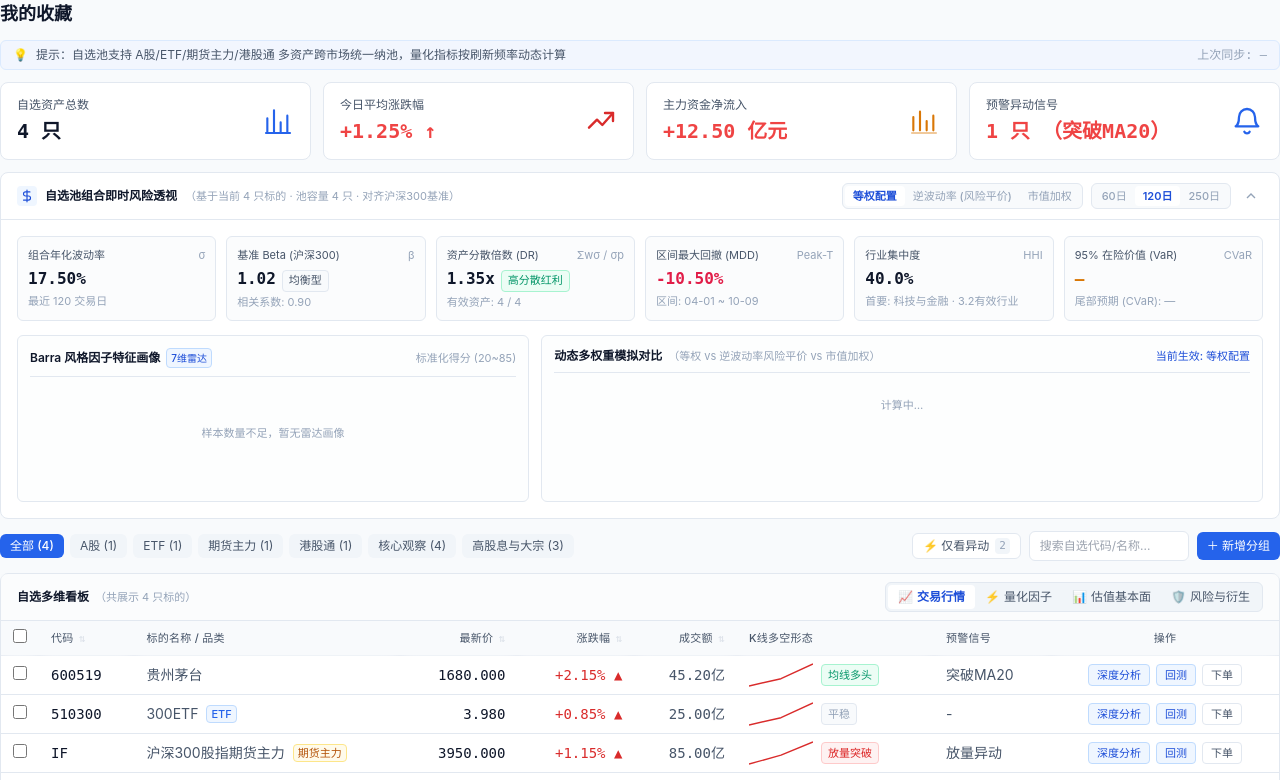
Scenario: Watchlist 自选池多资产与多视图矩阵 › 展示多资产分类 Tab 并正确过滤
Expected: the button "全部 (4)" is shown, x1=0 y1=534 x2=64 y2=558
Expected: the button "A股 (1)" is shown, x1=70 y1=534 x2=127 y2=558
# 点击期货主力 Tab
Click the button "期货主力 (1)". click: (241, 546)
box: x1=198 y1=534 x2=283 y2=558
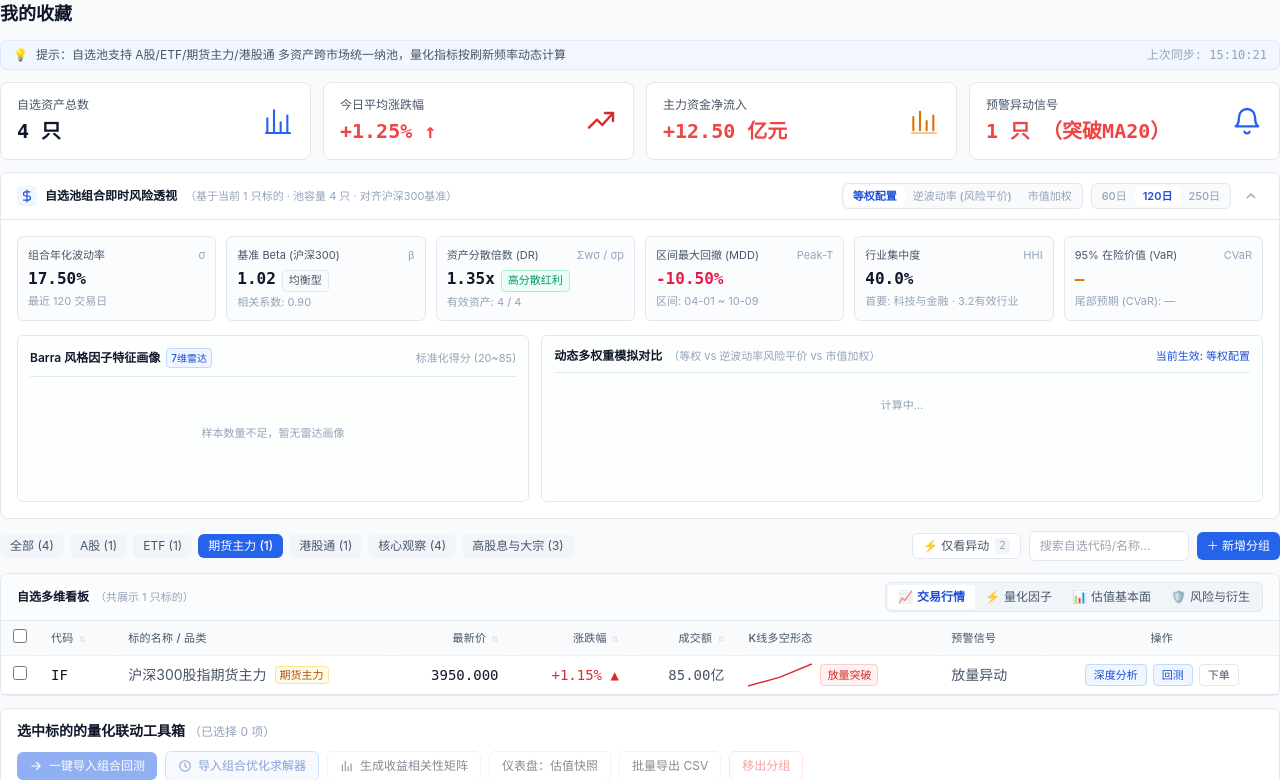
Expected: the text "沪深300股指期货主力" is shown, x1=128 y1=665 x2=267 y2=685
Expected: the text "贵州茅台" is gone
